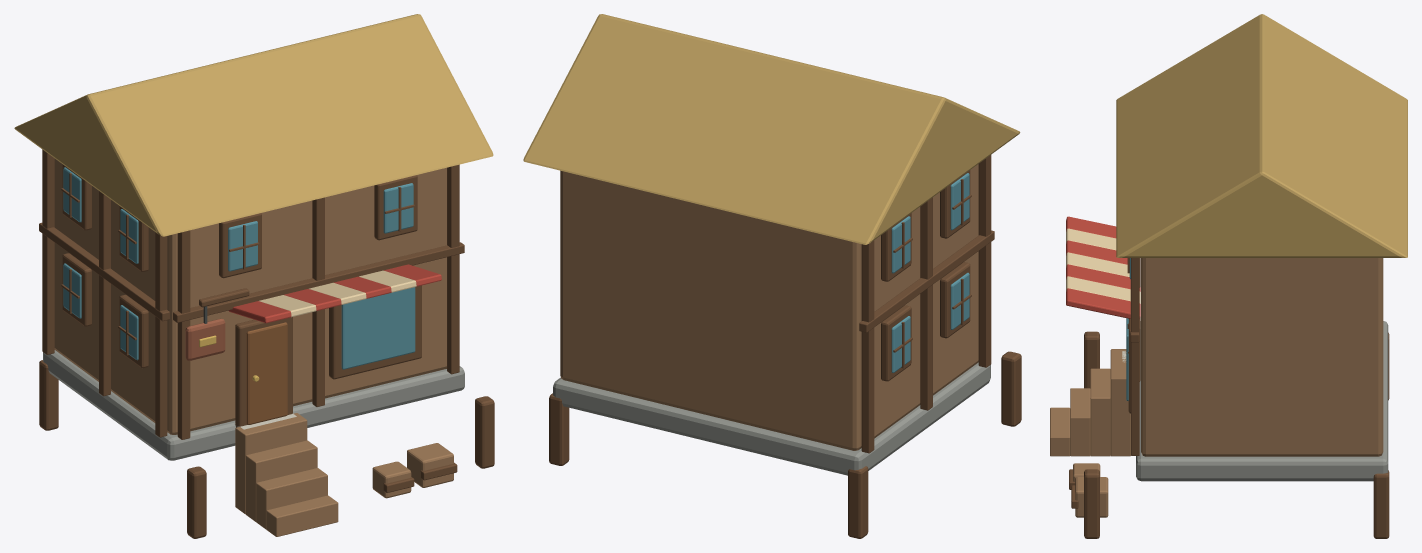
The model's file is wetland-shop-0.glb.
The picture shows the model from 3 angles, left to right: view 1: azimuth 30°, elevation 25°; view 2: azimuth 150°, elevation 25°; view 3: azimuth 270°, elevation 25°; orthographic projection. The views are drawn at different scales.
Parts seen in each view (by area): view 1: Golden thatch, Aged oak, Dark beams, Blue glass, Foundation stone, Door oak, Market red cloth, Market cream cloth, Painted sign; view 2: Aged oak, Golden thatch, Dark beams, Foundation stone, Blue glass; view 3: Golden thatch, Aged oak, Foundation stone, Dark beams, Market red cloth, Market cream cloth.
Boxes of the visible parts, x1=… form: Golden thatch: x1=14, y1=14, x2=493, y2=236; Aged oak: x1=54, y1=159, x2=453, y2=536; Dark beams: x1=39, y1=149, x2=494, y2=538; Blue glass: x1=63, y1=167, x2=415, y2=369; Foundation stone: x1=43, y1=350, x2=464, y2=460; Door oak: x1=246, y1=322, x2=287, y2=424; Market red cloth: x1=228, y1=264, x2=441, y2=323; Market cream cloth: x1=259, y1=270, x2=416, y2=317; Painted sign: x1=185, y1=318, x2=225, y2=360; Aged oak: x1=560, y1=164, x2=978, y2=450; Golden thatch: x1=523, y1=14, x2=1020, y2=244; Dark beams: x1=549, y1=155, x2=1021, y2=538; Foundation stone: x1=553, y1=362, x2=990, y2=475; Blue glass: x1=891, y1=173, x2=969, y2=372; Golden thatch: x1=1116, y1=14, x2=1407, y2=257; Aged oak: x1=1050, y1=258, x2=1383, y2=517; Foundation stone: x1=1136, y1=321, x2=1388, y2=481; Dark beams: x1=1069, y1=258, x2=1389, y2=538; Market red cloth: x1=1066, y1=216, x2=1140, y2=318; Market cream cloth: x1=1066, y1=228, x2=1140, y2=303.
Bounding box in the file's own units: 4.3 × 4.7 × 4.07.
